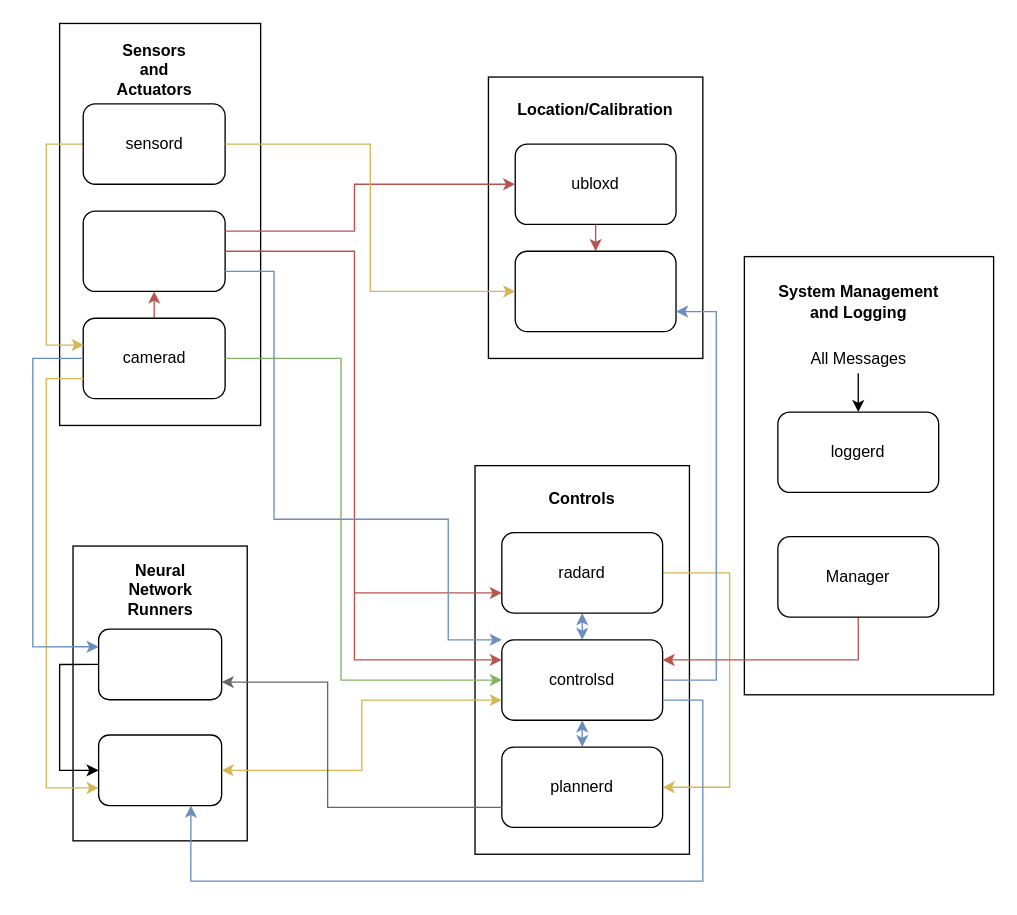
Image size: 1017x915. Some labels were removed from this diagram. The box of each missing label's shape, as (x1, y1, x2, y2) in pixels:
boardd: (82, 210, 225, 291)
dmonitoringd: (97, 734, 222, 806)
locationd: (514, 250, 676, 332)
modeld: (97, 628, 222, 700)
